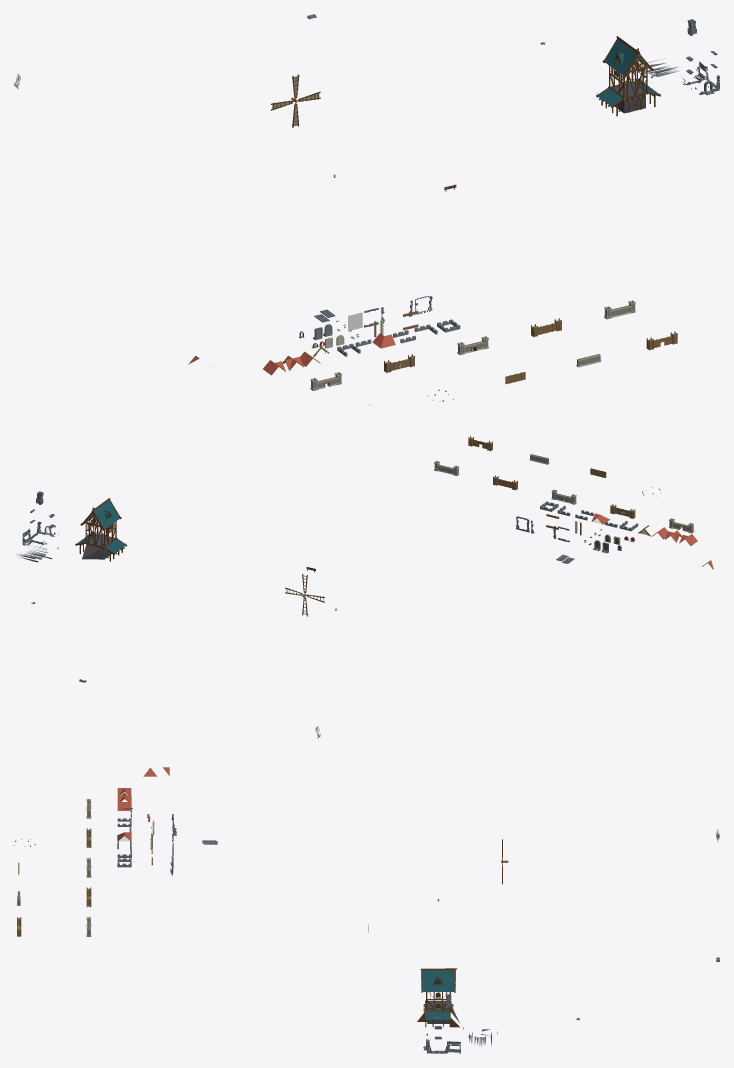
Rendered from block_decorations.glb.
The picture shows the model from 3 angles, top to bottom: view 1: azimuth 30°, elevation 25°; view 2: azimuth 150°, elevation 25°; view 3: azimuth 270°, elevation 25°; orthographic projection. The views are drawn at different scales.
Visible parts, largest first — view 1: Mill.004, Mill.001, Mill.003; view 2: Mill.004, Mill.003, Mill.001, Mill; view 3: Mill.001, Mill.004, Mill.003.
Part boxes in pixels (box(x1,y1,x2,y2)): Mill.004: box(596, 36, 660, 116); Mill.001: box(597, 39, 658, 105); Mill.003: box(643, 19, 719, 94); Mill.004: box(75, 498, 126, 561); Mill.003: box(16, 491, 58, 562); Mill.001: box(77, 500, 125, 553); Mill: box(82, 534, 114, 559); Mill.001: box(422, 970, 454, 1020); Mill.004: box(417, 968, 459, 1027); Mill.003: box(424, 994, 497, 1053).
Bounding box in the file's own units: 47.01 × 4.96 × 50.49.
